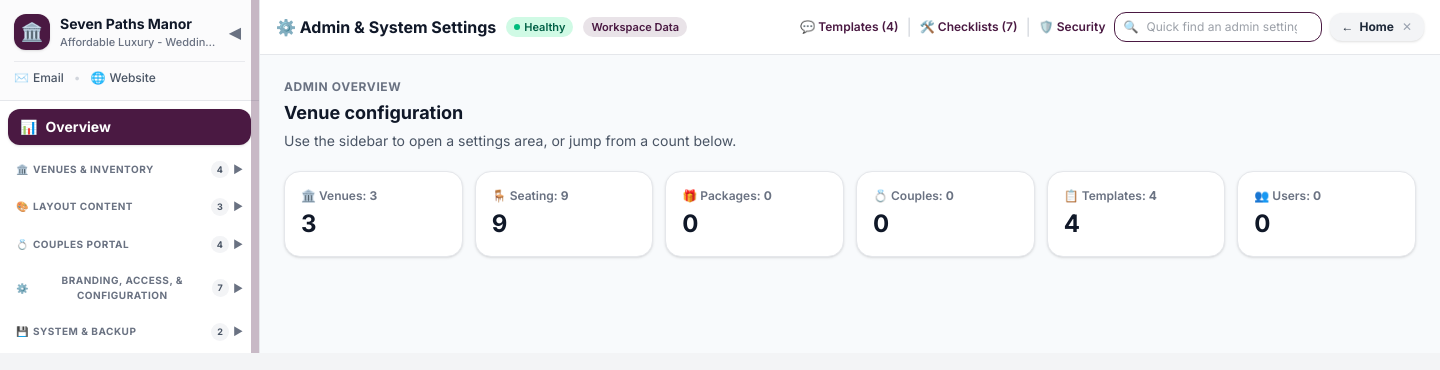
Test: AdminPanel sidebar console › collapses the sidebar to an icon rail
Step 1. Click the button named "collapse sidebar" → (235, 32), box [225, 16, 245, 48]
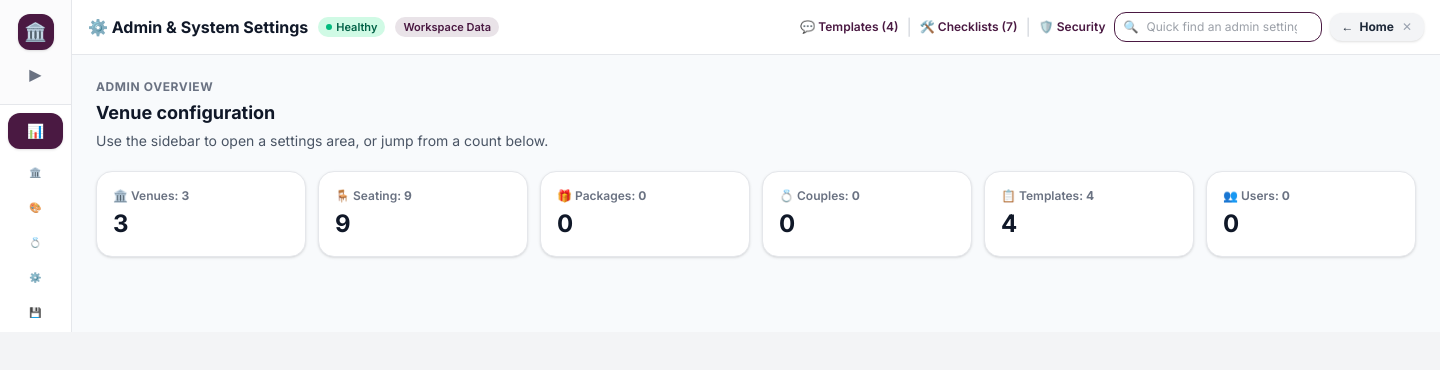
Expected: the button named "expand sidebar" is shown, [25, 58, 46, 90]
Result: the text "Seven Paths Manor" is gone
